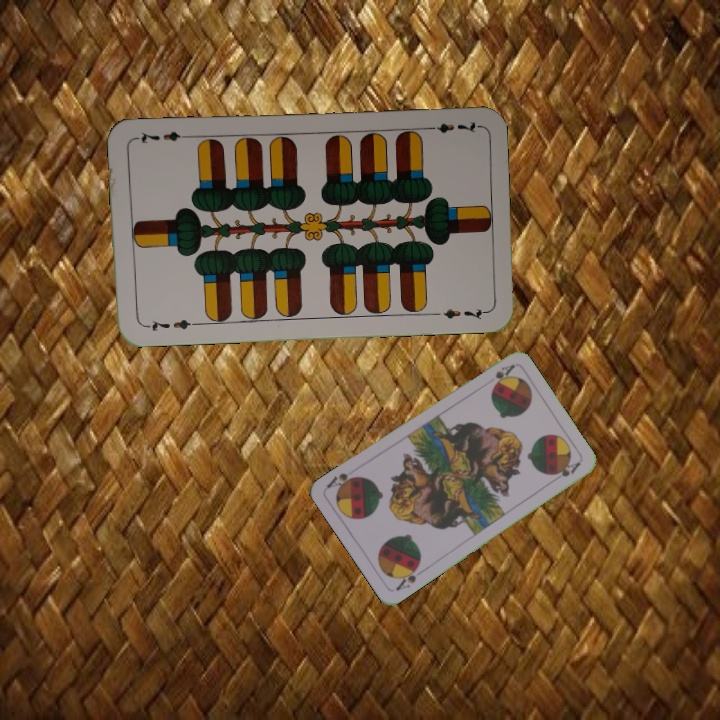E7: (139, 316, 199, 334), (422, 118, 481, 136)
SA: (392, 560, 427, 593), (490, 360, 517, 387)
